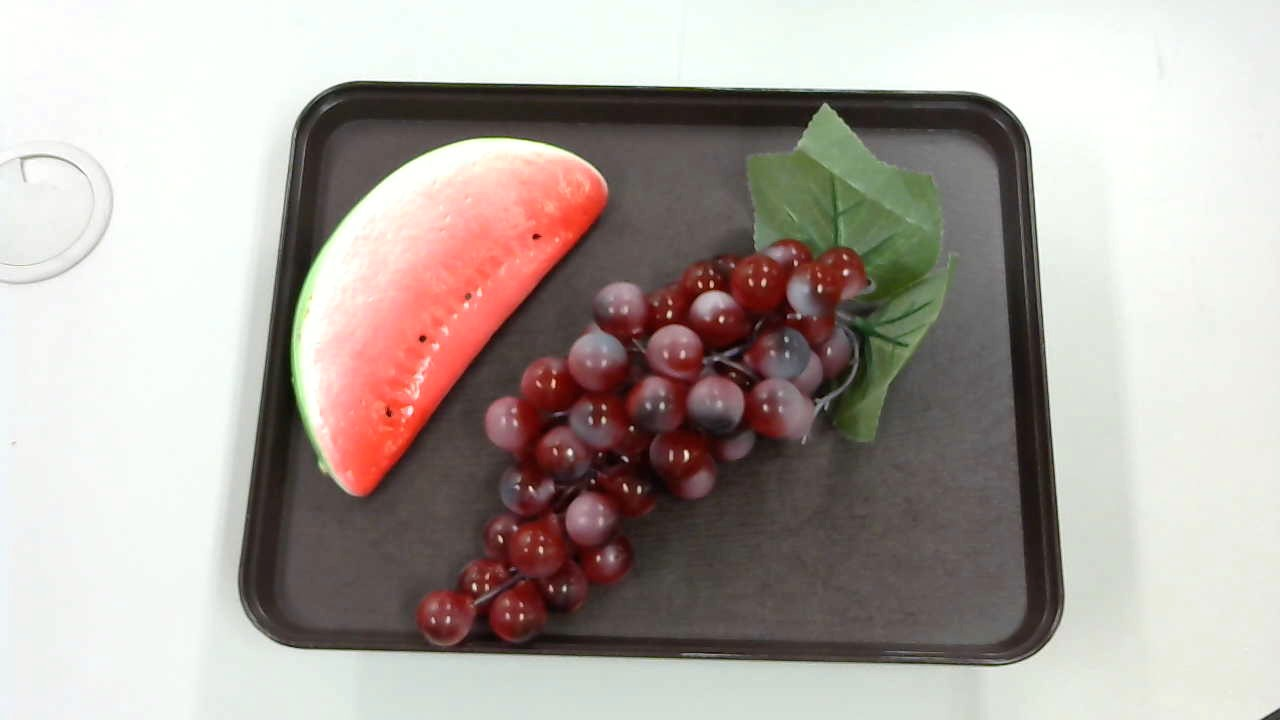grape: (418, 107, 952, 669)
water melon: (290, 137, 617, 491)
